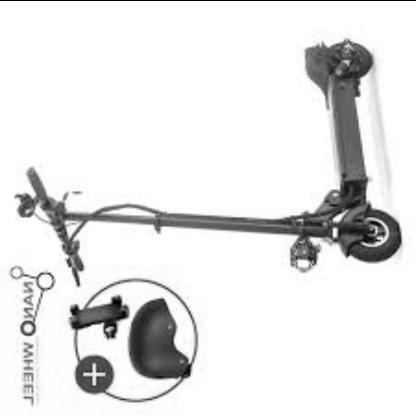bike: (4, 40, 402, 277)
